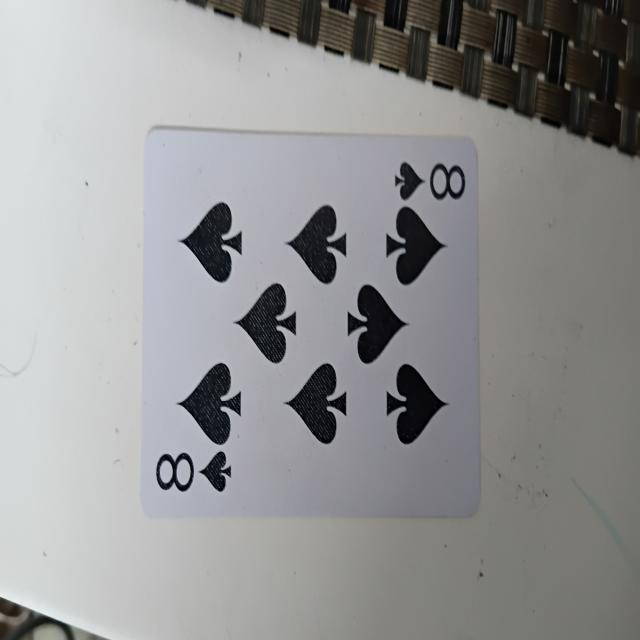8S: (138, 119, 482, 530)
